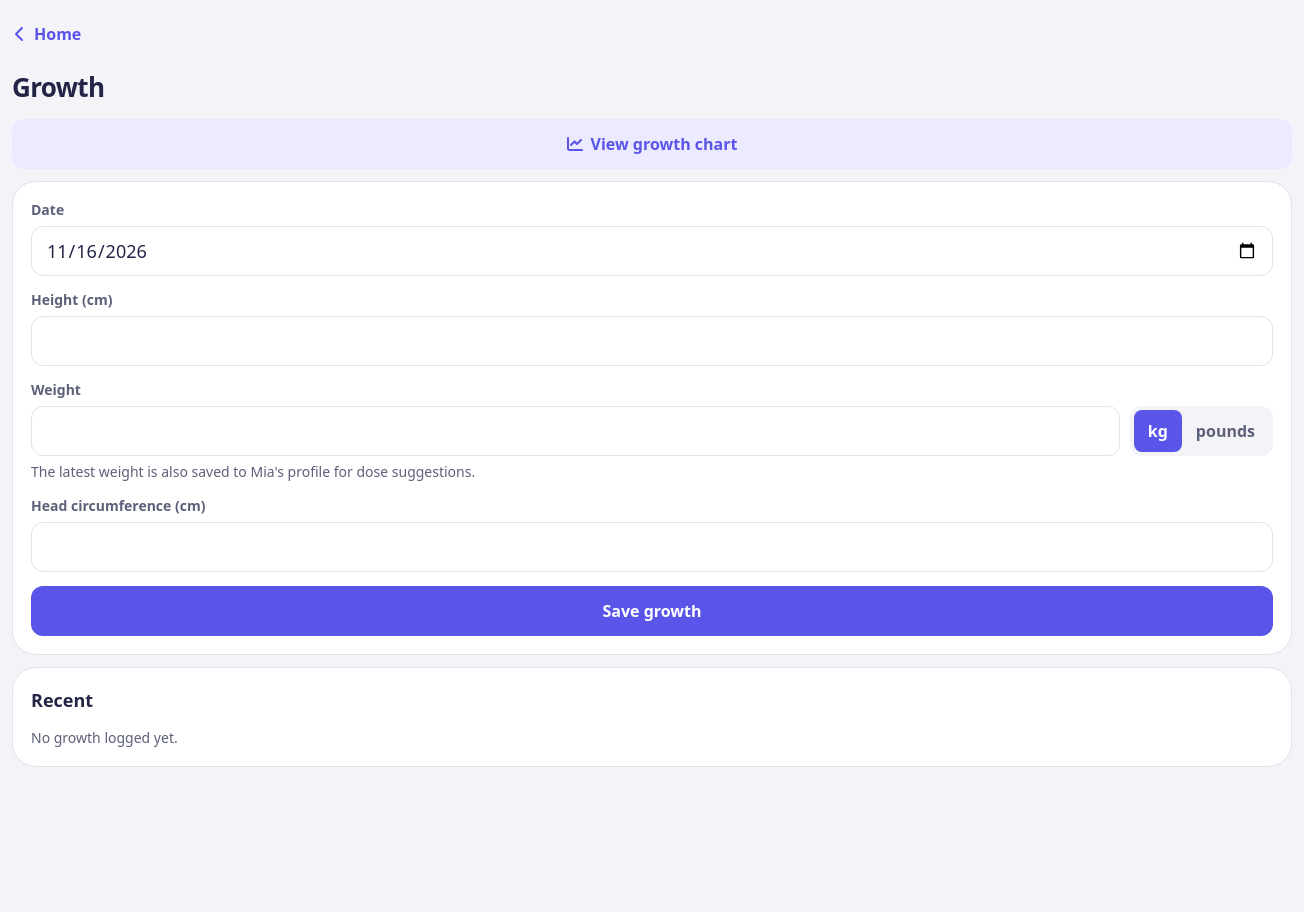
Scenario: GrowthLogPage › requires at least one measurement
Click the button "Save growth": (652,611) [31,586,1273,636]
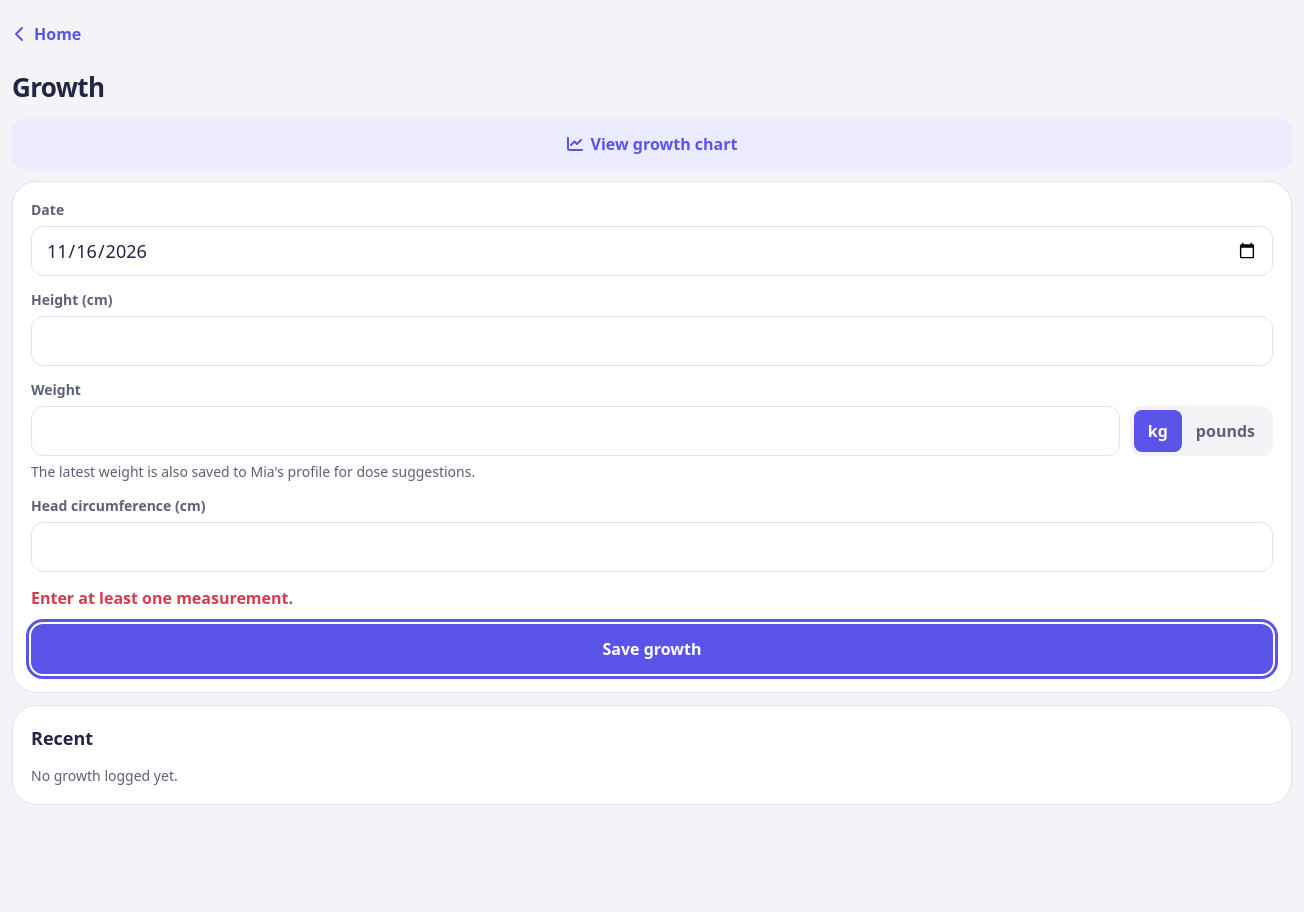
expect the message reads "Enter at least one measurement.": met, box [31,587,293,609]
